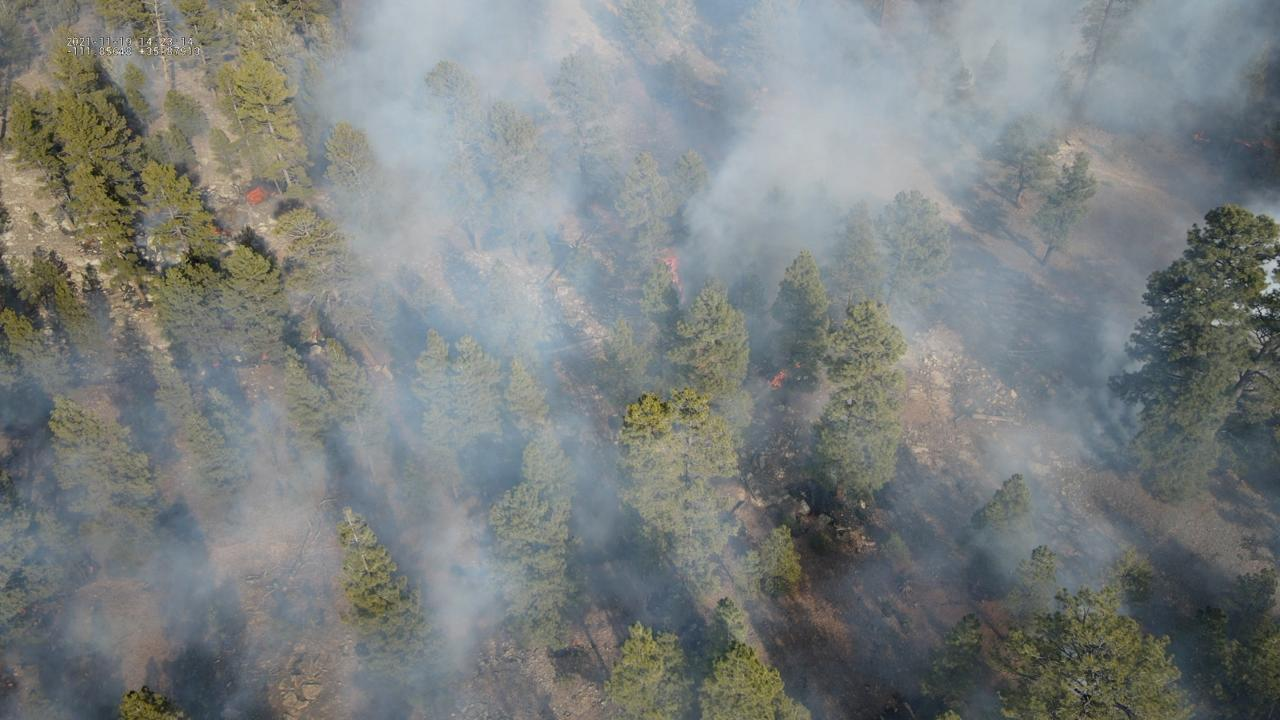fire: (653, 243, 683, 303), (243, 185, 270, 206), (762, 368, 786, 390), (1232, 136, 1254, 149), (1191, 129, 1202, 144), (211, 360, 222, 369), (260, 351, 269, 361), (213, 229, 221, 237)
smoke: (0, 0, 1280, 720)
